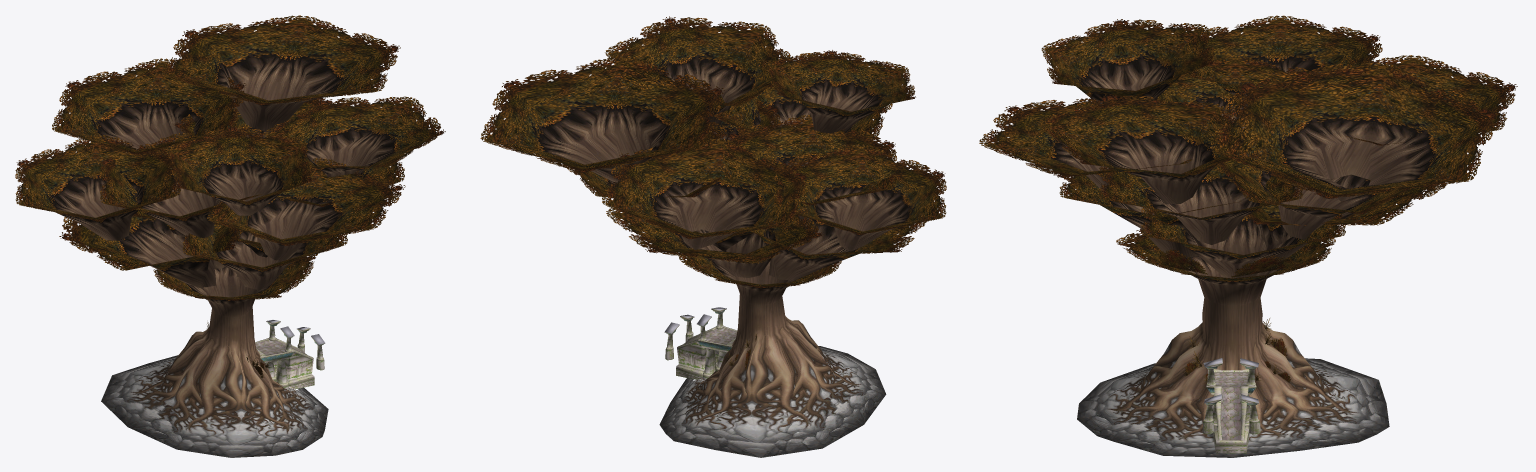
Rendered from duskworldtree_set0.obj.
3 views of the same model, side by side, from view 1: azimuth 30°, elevation 25°; view 2: azimuth 150°, elevation 25°; view 3: azimuth 270°, elevation 25° (orthographic). The views are drawn at different scales.
Parts seen in each view (by area): view 1: worldTree5, worldTree11, worldTree6, worldTree3, worldTree7, worldTree10, worldTree8, worldTree13, worldTree9, worldTree15, worldTree2; view 2: worldTree5, worldTree11, worldTree3, worldTree6, worldTree7, worldTree10, worldTree8, worldTree9, worldTree13, worldTree15, worldTree2; view 3: worldTree5, worldTree11, worldTree3, worldTree6, worldTree7, worldTree10, worldTree8, worldTree12, worldTree9, worldTree1, worldTree13, worldTree2.
Part boxes in pixels (<box>): worldTree5: <box>15,15,445,300</box>; worldTree11: <box>41,39,411,305</box>; worldTree6: <box>79,82,374,317</box>; worldTree3: <box>101,355,328,457</box>; worldTree7: <box>160,348,289,419</box>; worldTree10: <box>175,330,274,389</box>; worldTree8: <box>209,306,254,340</box>; worldTree13: <box>255,321,324,387</box>; worldTree9: <box>204,327,260,362</box>; worldTree15: <box>269,323,314,389</box>; worldTree2: <box>265,326,324,389</box>; worldTree5: <box>480,16,946,287</box>; worldTree11: <box>519,45,919,292</box>; worldTree3: <box>659,346,886,457</box>; worldTree6: <box>574,84,887,306</box>; worldTree7: <box>701,337,835,412</box>; worldTree10: <box>717,318,819,380</box>; worldTree8: <box>738,294,785,329</box>; worldTree9: <box>732,316,790,352</box>; worldTree13: <box>664,308,737,377</box>; worldTree15: <box>675,310,723,379</box>; worldTree2: <box>665,313,726,379</box>; worldTree5: <box>979,15,1517,278</box>; worldTree11: <box>1032,40,1476,285</box>; worldTree3: <box>1077,358,1389,457</box>; worldTree6: <box>1080,86,1404,305</box>; worldTree7: <box>1139,354,1325,425</box>; worldTree10: <box>1164,327,1300,403</box>; worldTree8: <box>1202,297,1262,345</box>; worldTree12: <box>1156,249,1294,382</box>; worldTree9: <box>1198,322,1266,370</box>; worldTree1: <box>1214,372,1248,440</box>; worldTree13: <box>1203,358,1259,445</box>; worldTree2: <box>1202,369,1260,434</box>.
Size of the model in its own units: 480 by 327 by 457.
16 materials, 16 textured.
